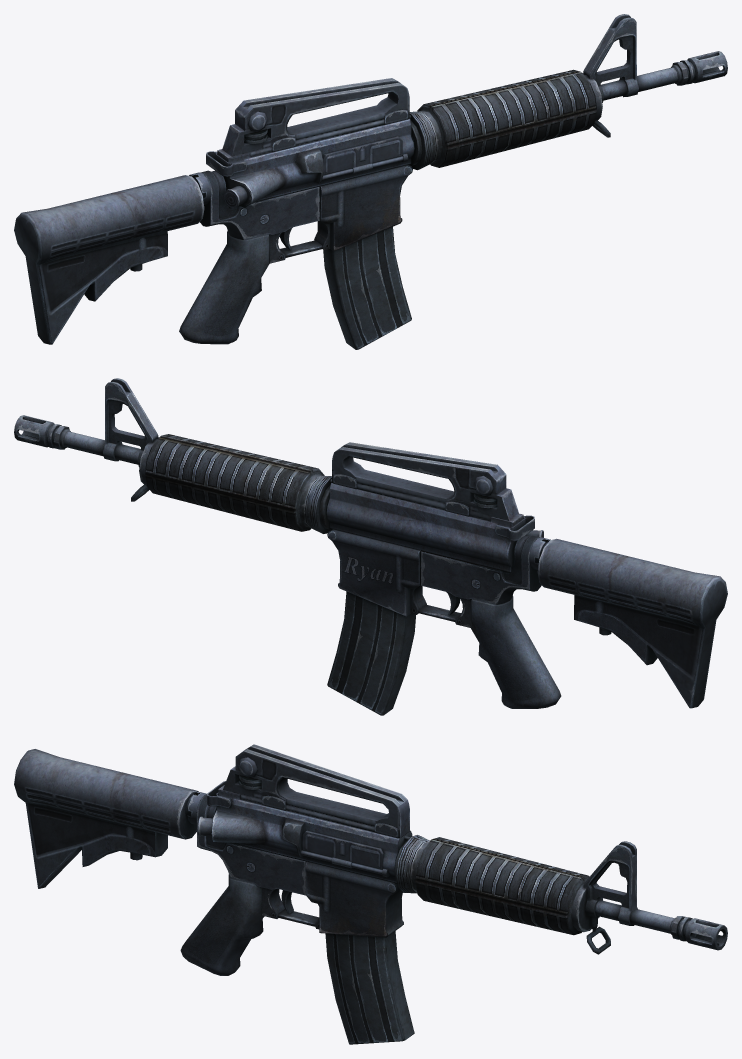
File: Gun_M41D.fbx
The picture shows the model from 3 angles, top to bottom: view 1: azimuth 30°, elevation 25°; view 2: azimuth 150°, elevation 25°; view 3: azimuth 330°, elevation 25°; orthographic projection.
Parts seen in each view (by area): view 1: Object13; view 2: Object13; view 3: Object13.
Part boxes in pixels (bbox=[...]): Object13: bbox=[14, 14, 727, 349]; Object13: bbox=[14, 378, 727, 715]; Object13: bbox=[14, 744, 727, 1044].
Bounding box in the file's own units: 10183 × 3759 × 937.
1 material, 1 textured.
